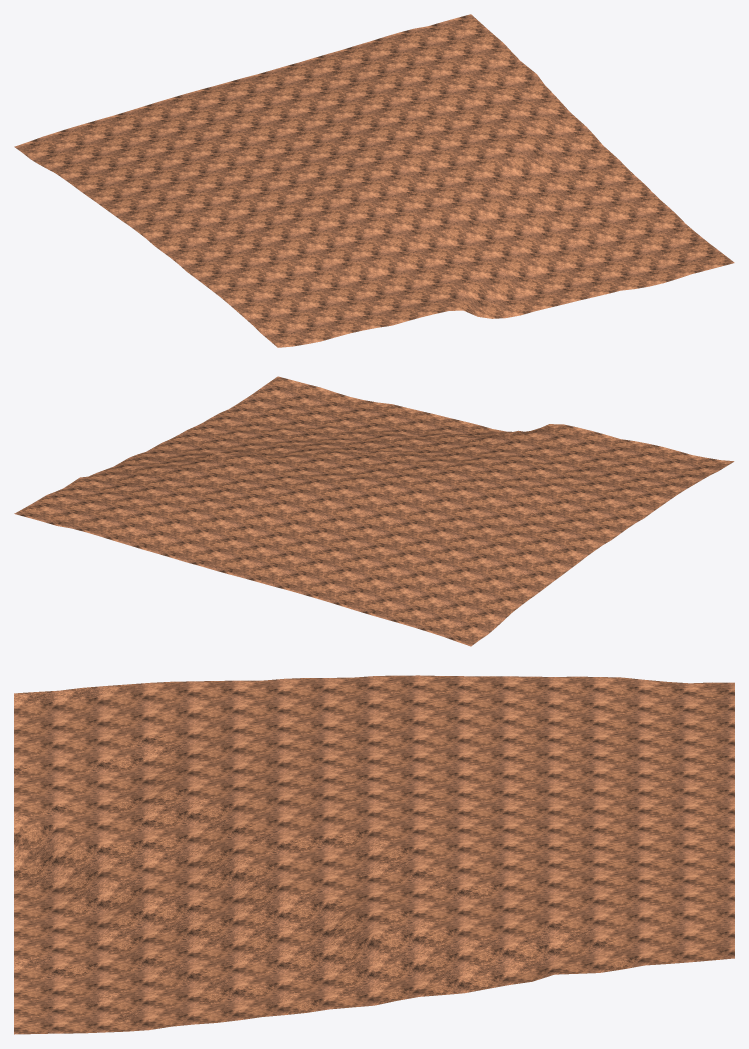
The model's file is terrain_04_22.dae.
3 renders of one model, top to bottom at view 1: azimuth 30°, elevation 25°; view 2: azimuth 150°, elevation 25°; view 3: azimuth 270°, elevation 25°, orthographic. The views are drawn at different scales.
Visible parts, largest first — view 1: terrain_04_22-node; view 2: terrain_04_22-node; view 3: terrain_04_22-node.
Boxes of the visible parts, x1,y1,x2,y2 form: terrain_04_22-node: [14, 14, 734, 347]; terrain_04_22-node: [14, 376, 734, 646]; terrain_04_22-node: [14, 675, 734, 1034].
Size of the model in its own units: 128 by 128 by 15.66.
1 material, 1 textured.
